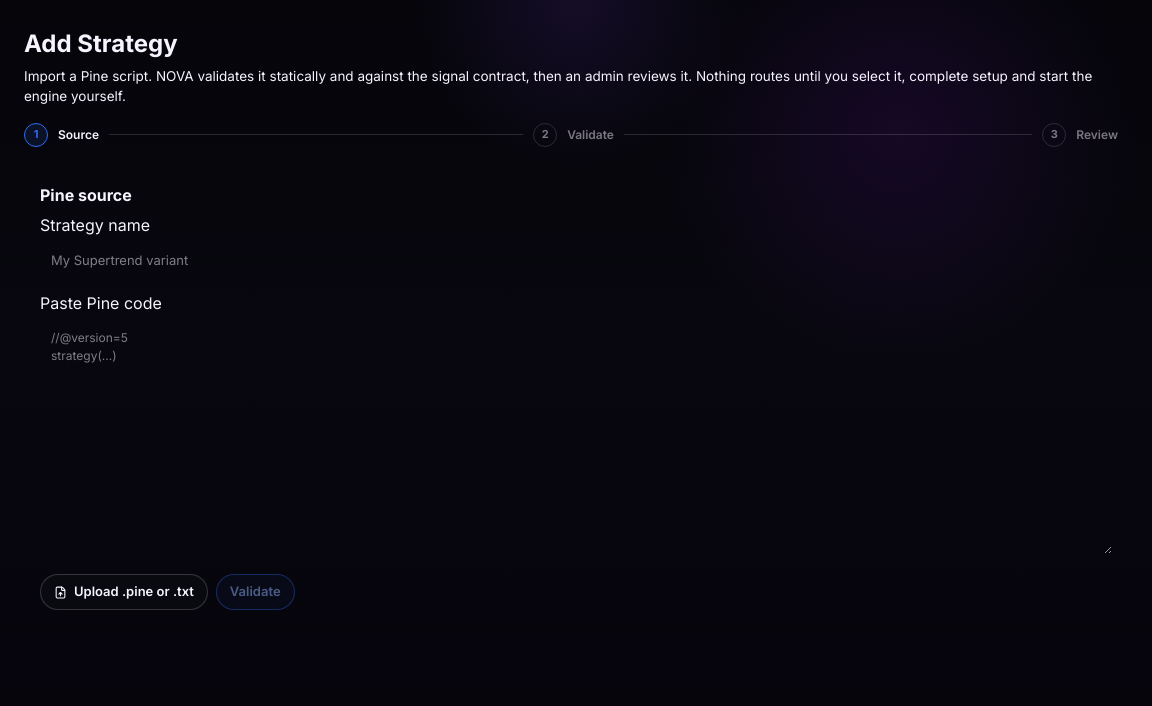
Test: AddStrategyPage › never claims TradingView compiled the script
The image size is (1152, 706).
Type "Mine" into the field labelled "Strategy name" at {"x": 576, "y": 260}, box [40,242,1112,279]
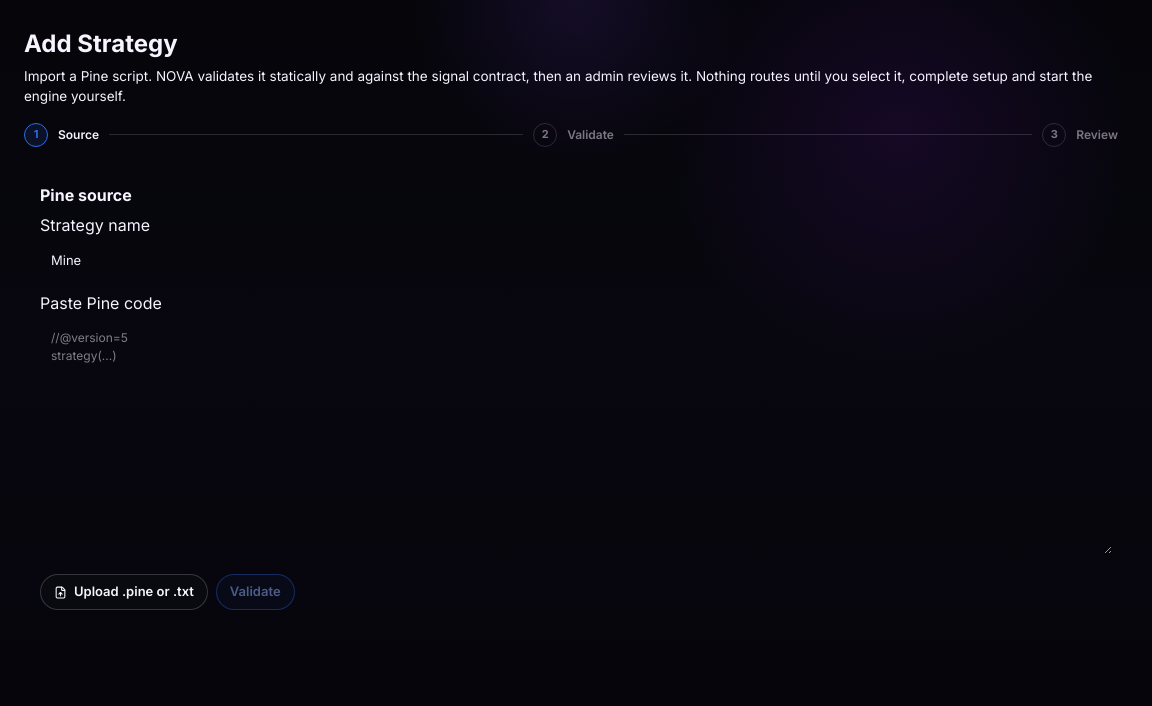
Type "//@version=5" into the text box labelled "Paste Pine code" at {"x": 576, "y": 437}, box [40,320,1112,554]
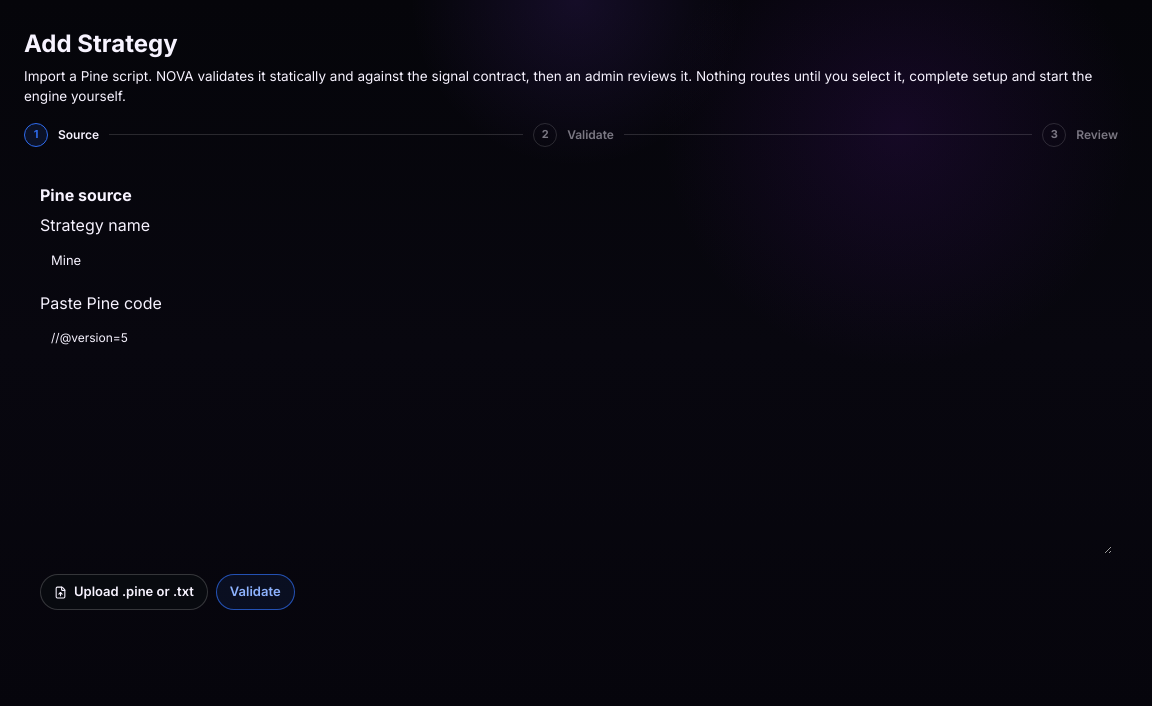
Click the button "Validate" at {"x": 255, "y": 592}, box [216,574,294,610]
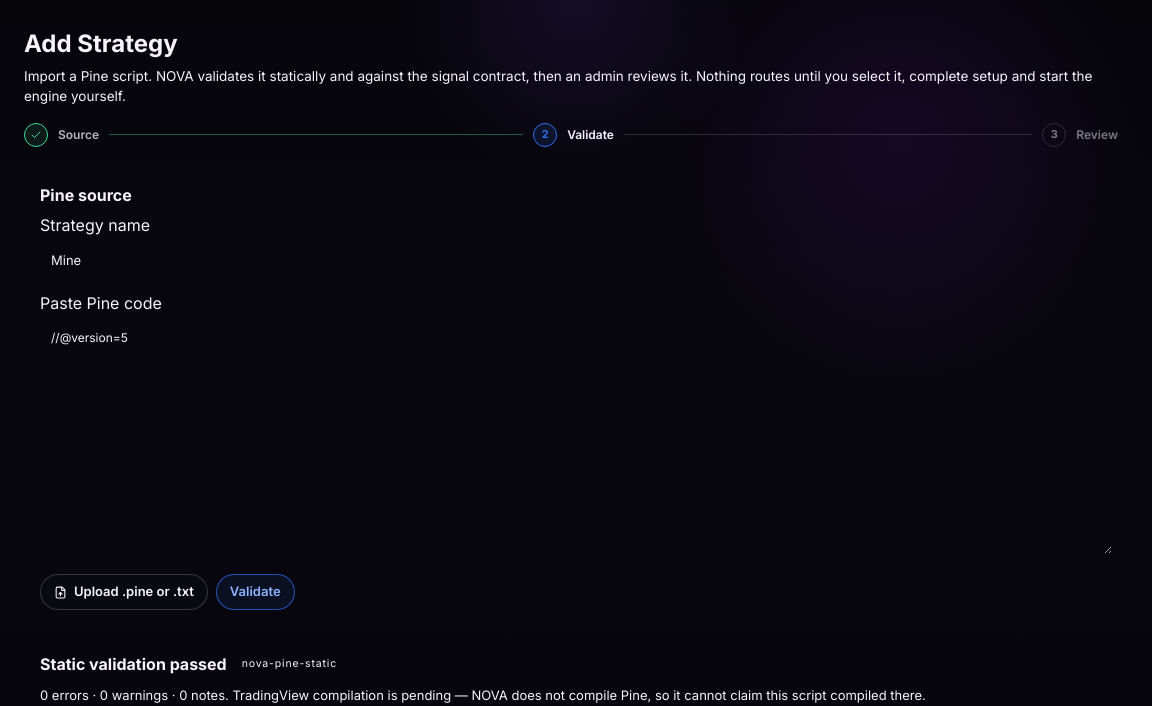
Expected: the text "Static validation passed" is shown, [40,652,227,676]
Expected: the text "TradingView compilation is pending" is shown, [187,687,926,703]
